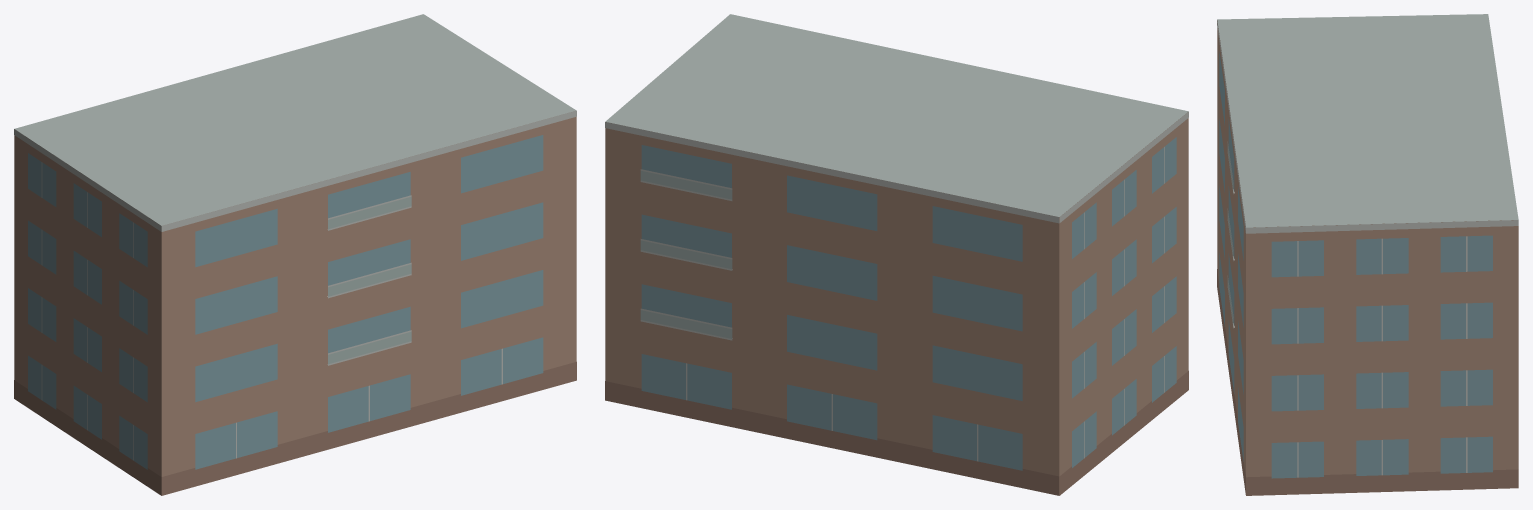
The model's file is survey-upis-32585038.glb.
3 renders of one model, left to right at view 1: azimuth 30°, elevation 25°; view 2: azimuth 150°, elevation 25°; view 3: azimuth 270°, elevation 25°, orthographic. The views are drawn at different scales.
Visible parts, largest first — view 1: survey-upis-32585038.tmp; view 2: survey-upis-32585038.tmp; view 3: survey-upis-32585038.tmp.
Part boxes in pixels (<box>): survey-upis-32585038.tmp: <box>14,14,576,495</box>; survey-upis-32585038.tmp: <box>605,14,1188,495</box>; survey-upis-32585038.tmp: <box>1217,14,1518,495</box>.
Bounding box in the file's own units: 18.34 × 10.73 × 10.94.
